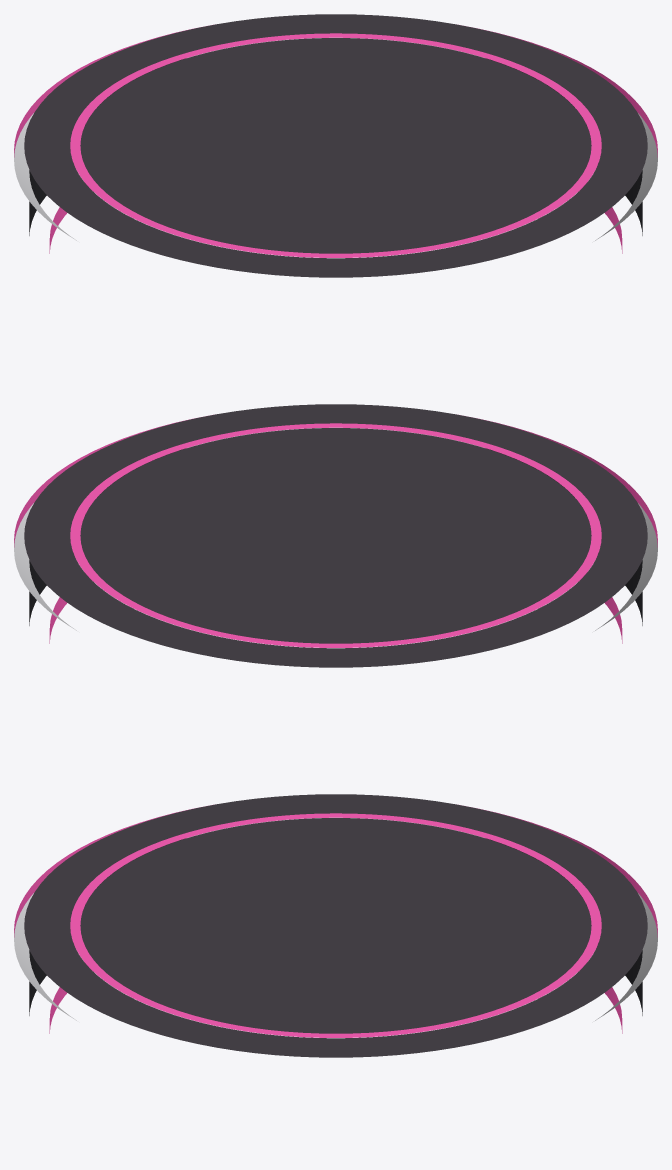
Rendered from podium2_ruby.glb.
The picture shows the model from 3 angles, top to bottom: view 1: azimuth 30°, elevation 25°; view 2: azimuth 150°, elevation 25°; view 3: azimuth 270°, elevation 25°; orthographic projection.
Visible parts, largest first — view 1: p8, p6, p7, p3, p4, p2; view 2: p8, p6, p7, p3, p4, p2; view 3: p8, p6, p7, p3, p4, p2.
Boxes of the visible parts, bbox=[...] form: p8: bbox=[80, 38, 591, 253]; p6: bbox=[24, 14, 647, 277]; p7: bbox=[70, 33, 601, 257]; p3: bbox=[14, 37, 657, 240]; p4: bbox=[14, 24, 657, 157]; p2: bbox=[29, 58, 642, 235]; p8: bbox=[80, 428, 591, 643]; p6: bbox=[24, 404, 647, 667]; p7: bbox=[70, 423, 601, 647]; p3: bbox=[14, 427, 657, 630]; p4: bbox=[14, 414, 657, 547]; p2: bbox=[29, 448, 642, 625]; p8: bbox=[80, 818, 591, 1033]; p6: bbox=[24, 794, 647, 1057]; p7: bbox=[70, 813, 601, 1037]; p3: bbox=[14, 817, 657, 1020]; p4: bbox=[14, 804, 657, 937]; p2: bbox=[29, 838, 642, 1015].
Size of the model in its own units: 2.52 by 0.471 by 2.52.
